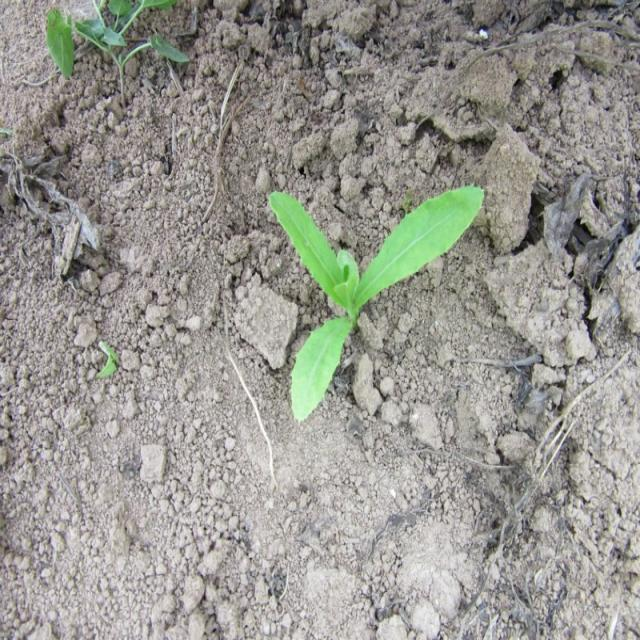field_thistle: (249, 156, 488, 439)
